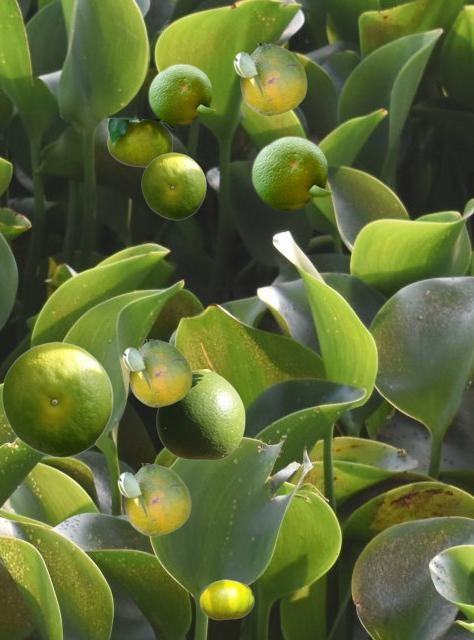dalandan: (1, 341, 112, 457), (156, 369, 244, 459), (250, 134, 333, 210), (117, 463, 190, 535), (233, 43, 306, 115), (122, 339, 191, 406), (147, 62, 216, 125), (141, 152, 205, 219), (107, 119, 171, 166), (199, 579, 253, 619)
